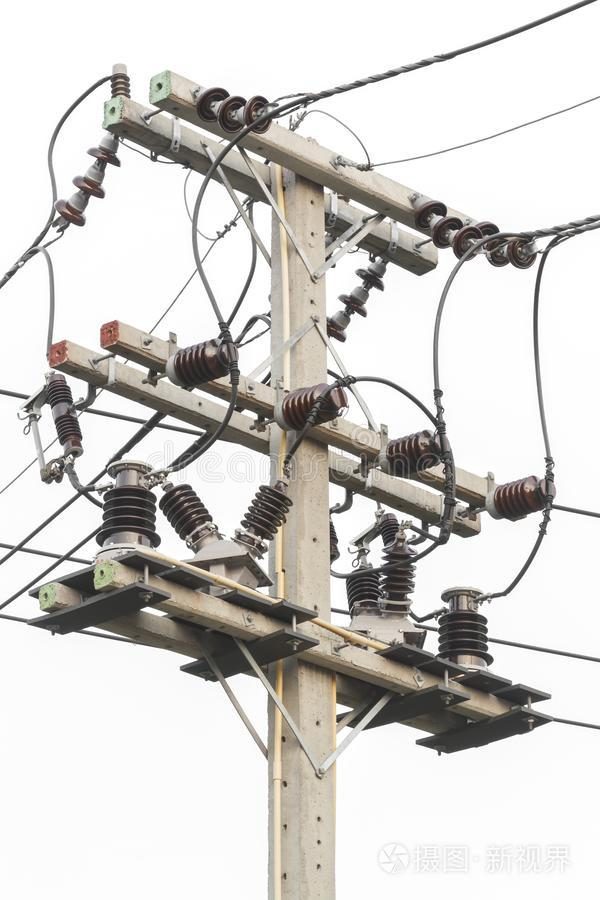insulator: (55, 145, 124, 230), (327, 270, 386, 344), (416, 196, 479, 264), (193, 88, 274, 136), (475, 219, 536, 274)
